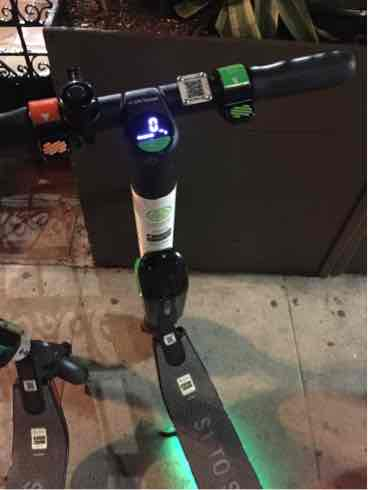scooter: (3, 48, 357, 490)
